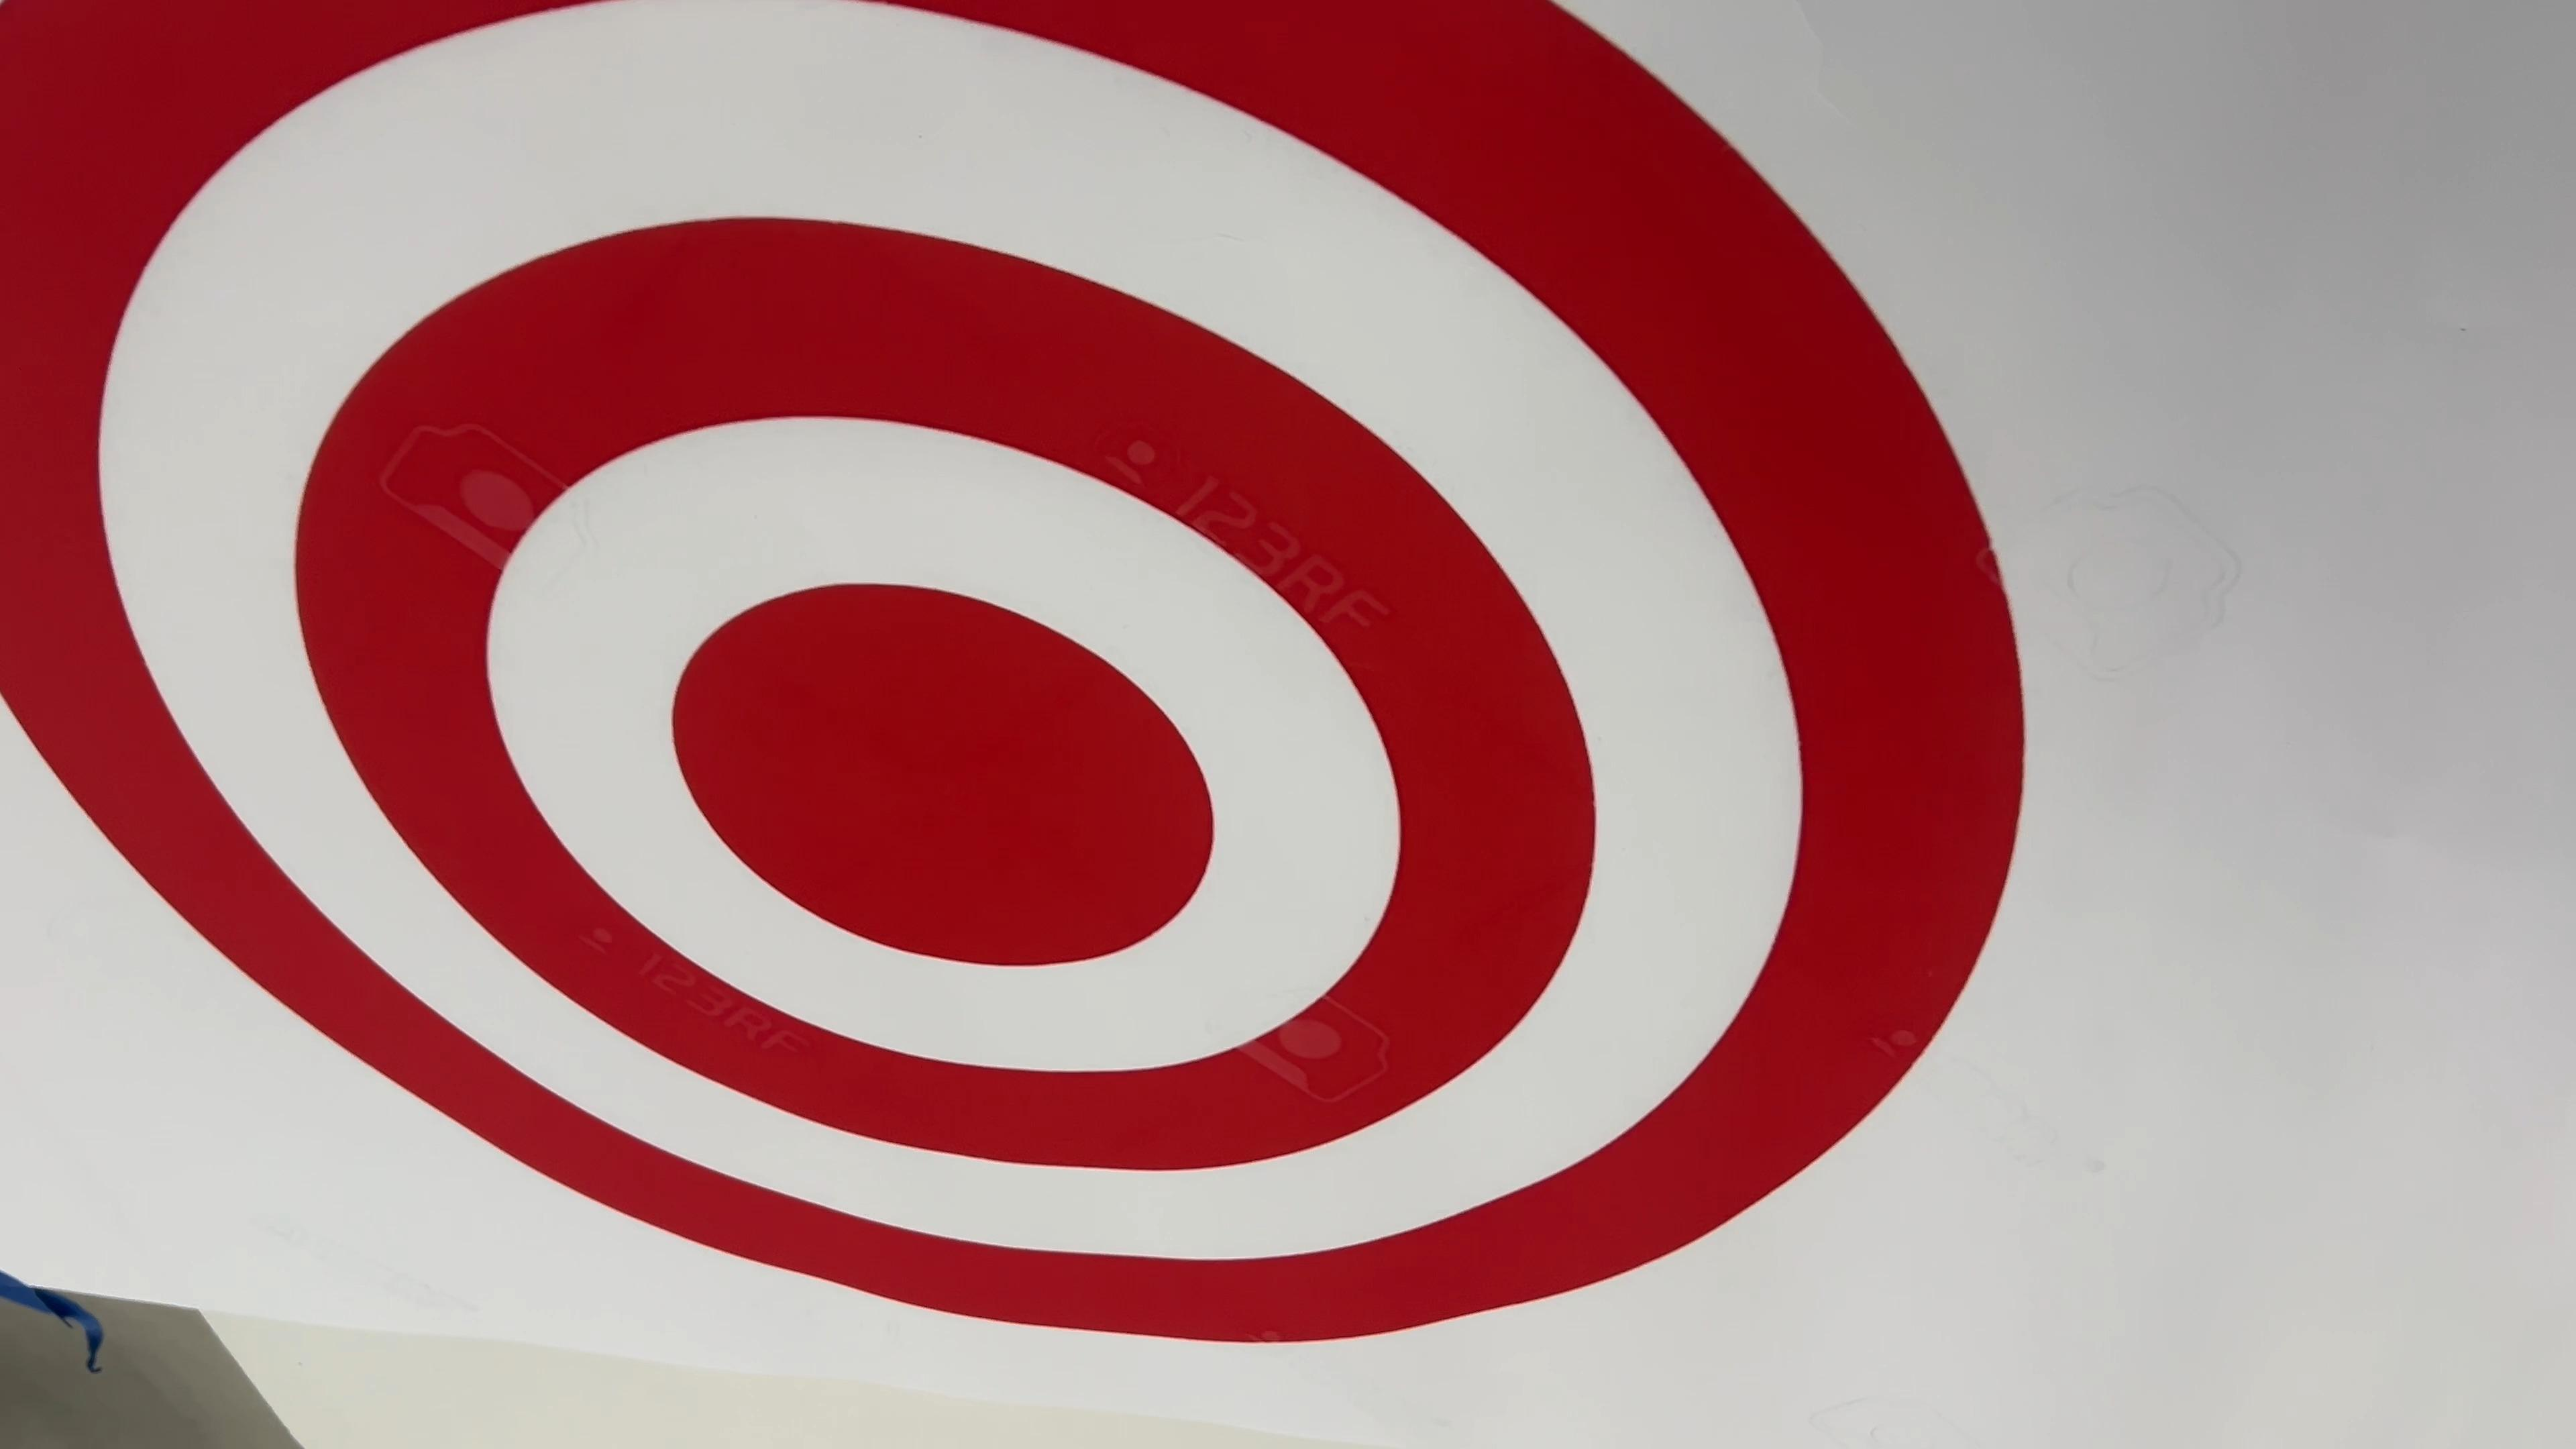target_red: (0, 0, 2061, 1353)
